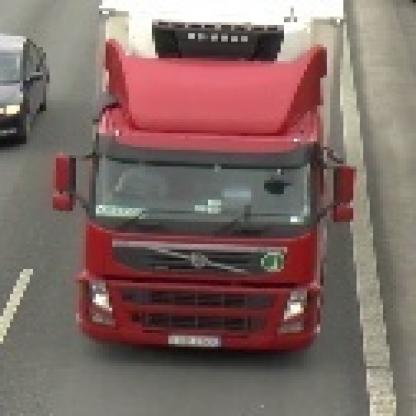truck: (51, 1, 354, 367)
